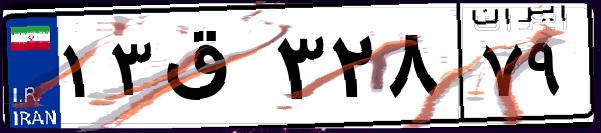1: (57, 26, 110, 100)
2: (330, 28, 385, 110)
3: (270, 28, 330, 110), (110, 28, 158, 98)
7: (475, 38, 525, 113)
8: (385, 28, 445, 110)
9: (525, 38, 570, 115)
ق: (158, 20, 270, 120)
